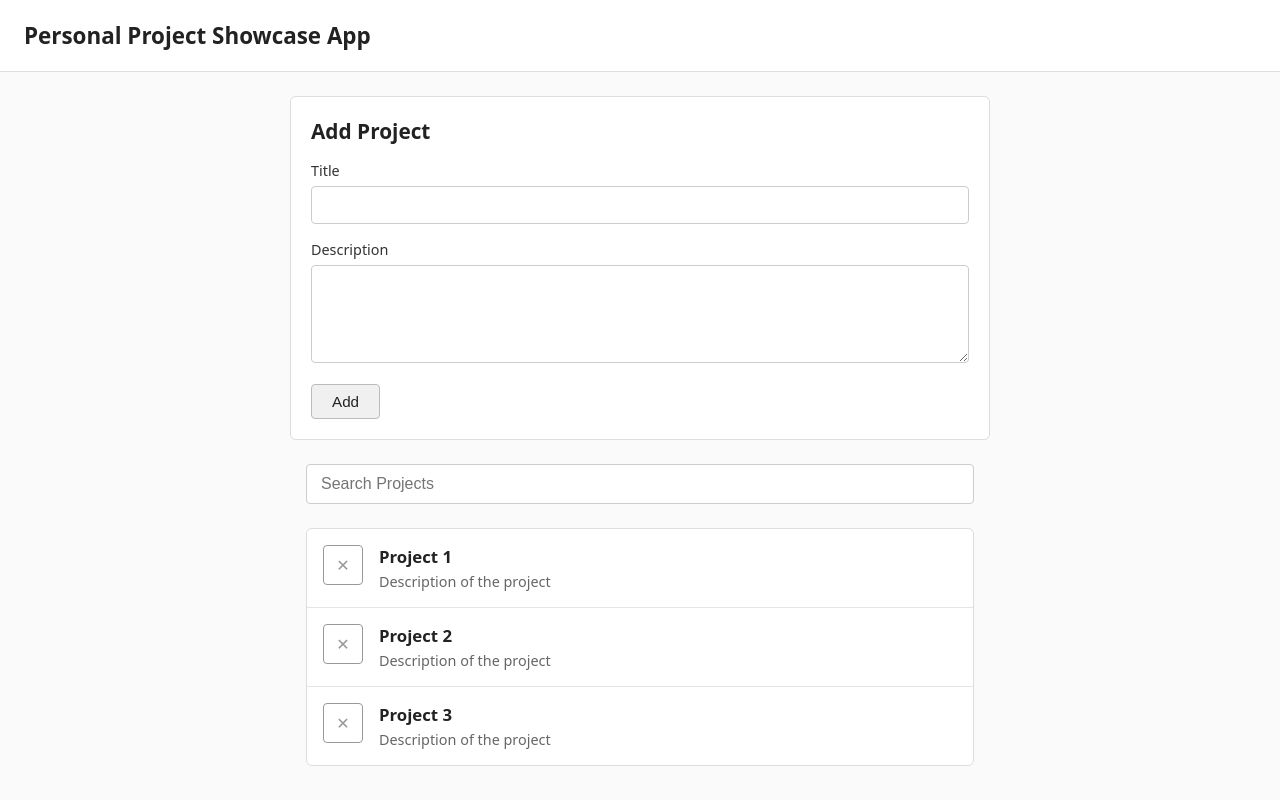
search filters the project list
Type "Project 2" into the field with placeholder "Search Projects" at (640, 484), box [306,464,974,504]
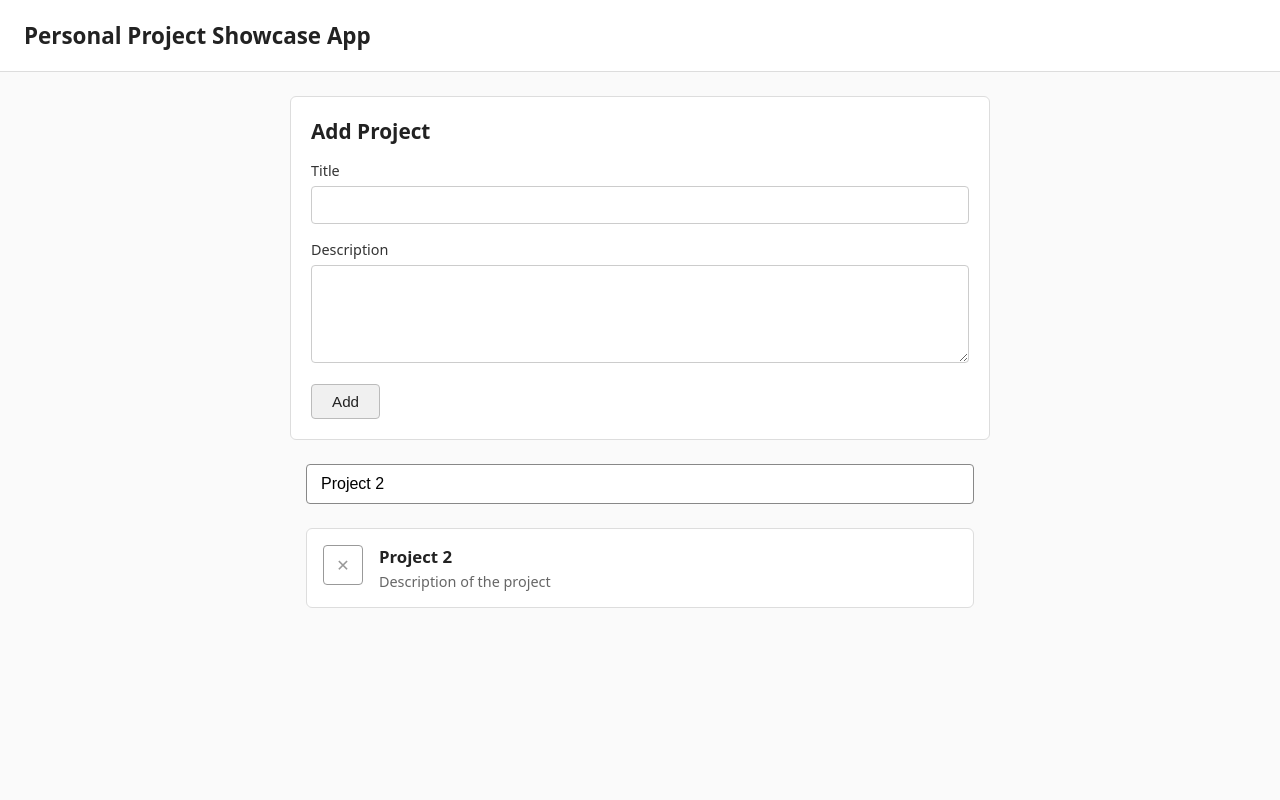
Expected: the heading "Project 2" is shown, [379,545,452,568]
Result: the heading "Project 1" is gone
Result: the heading "Project 3" is gone
